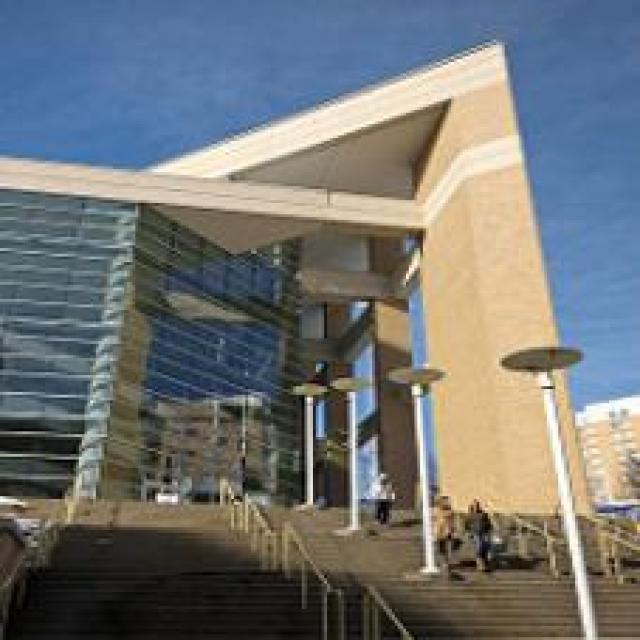upstair: (29, 481, 613, 619)
